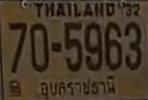0: (29, 22, 48, 72)
3: (124, 21, 141, 69)
5: (64, 22, 82, 70)
6: (104, 21, 121, 69)
7: (8, 22, 26, 69)
9: (84, 22, 102, 70)
UBN: (36, 73, 117, 100)
